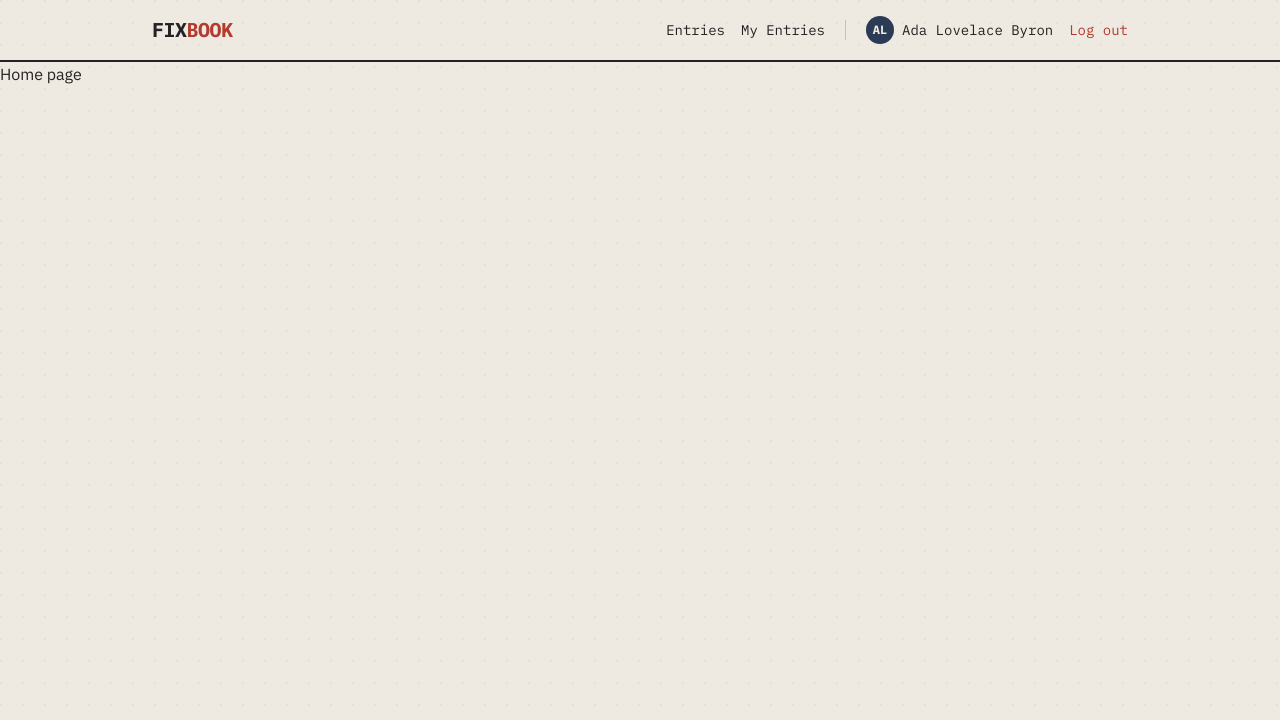
navigation bar › shows initials and logs out only after confirmation
The width and height of the screenshot is (1280, 720).
Expected: the text "AL" is shown, [866,16,894,44]
Click the button "Log out" at point(1099, 30), box [1069,20,1128,40]
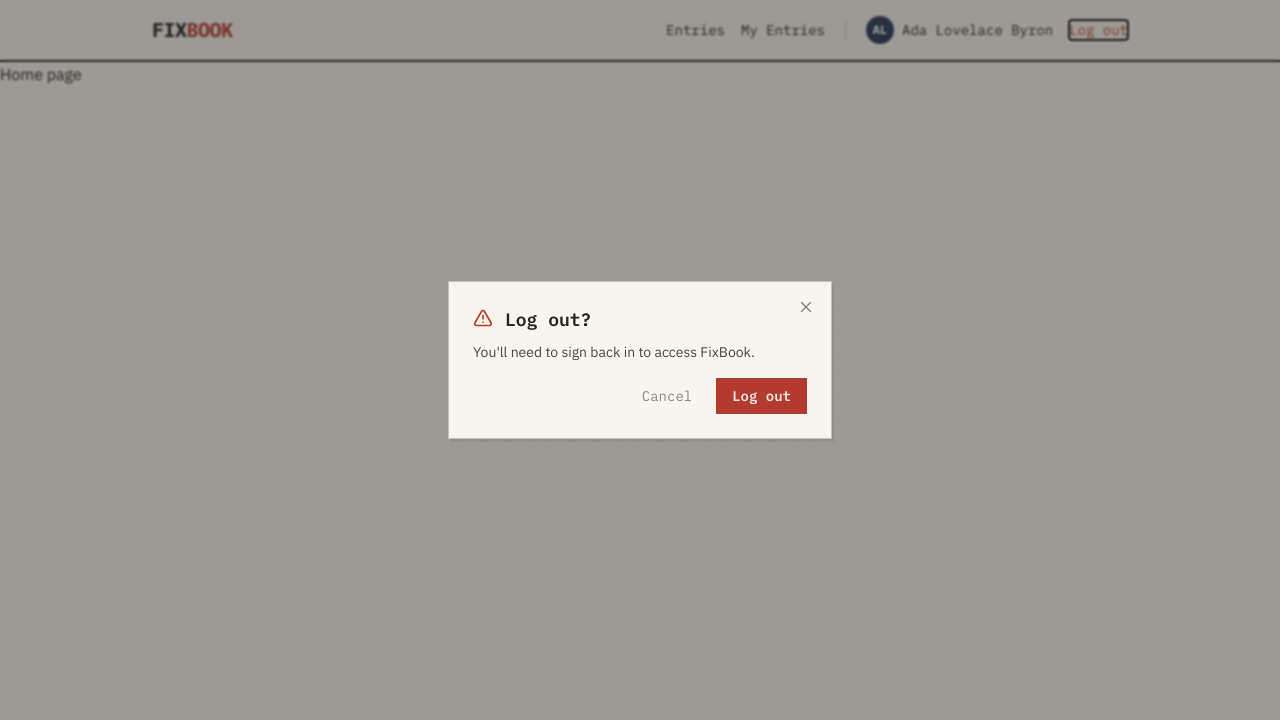
Click the button "Cancel" at point(667, 396), box [630,378,704,414]
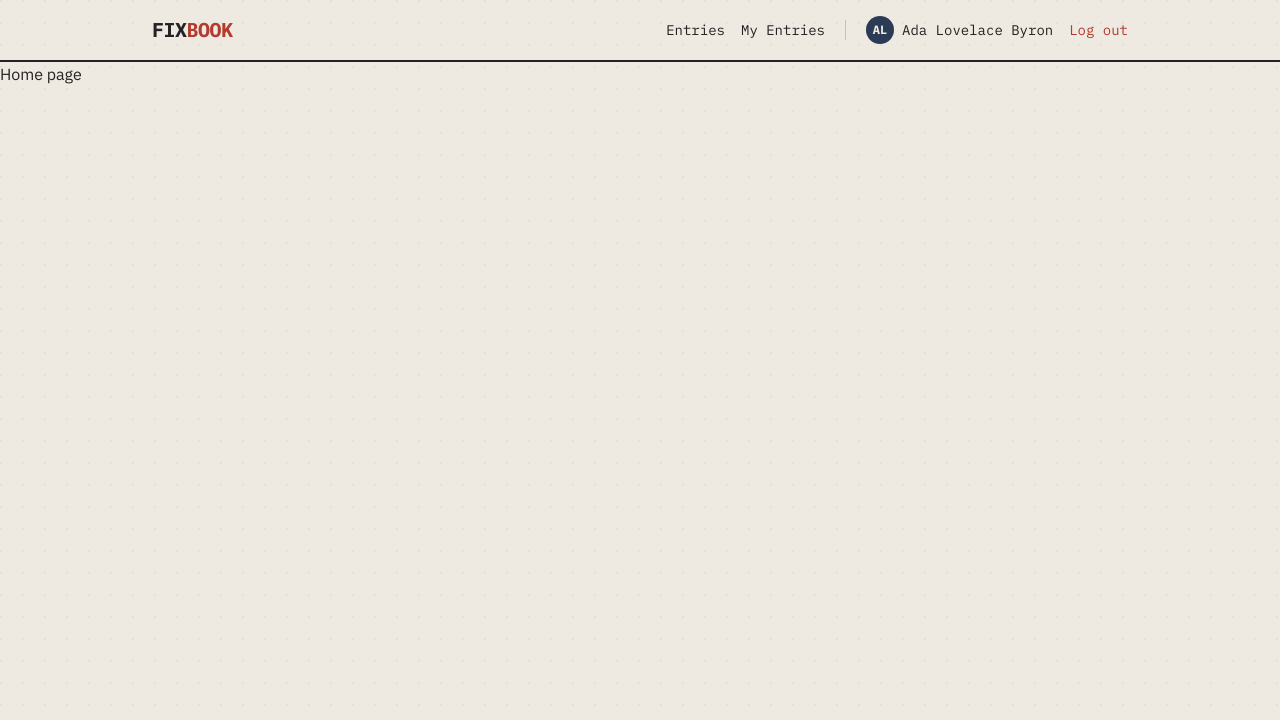
Expected: the heading "Log out?" is not shown
Click the button "Log out" at point(1099, 30), box [1069,20,1128,40]
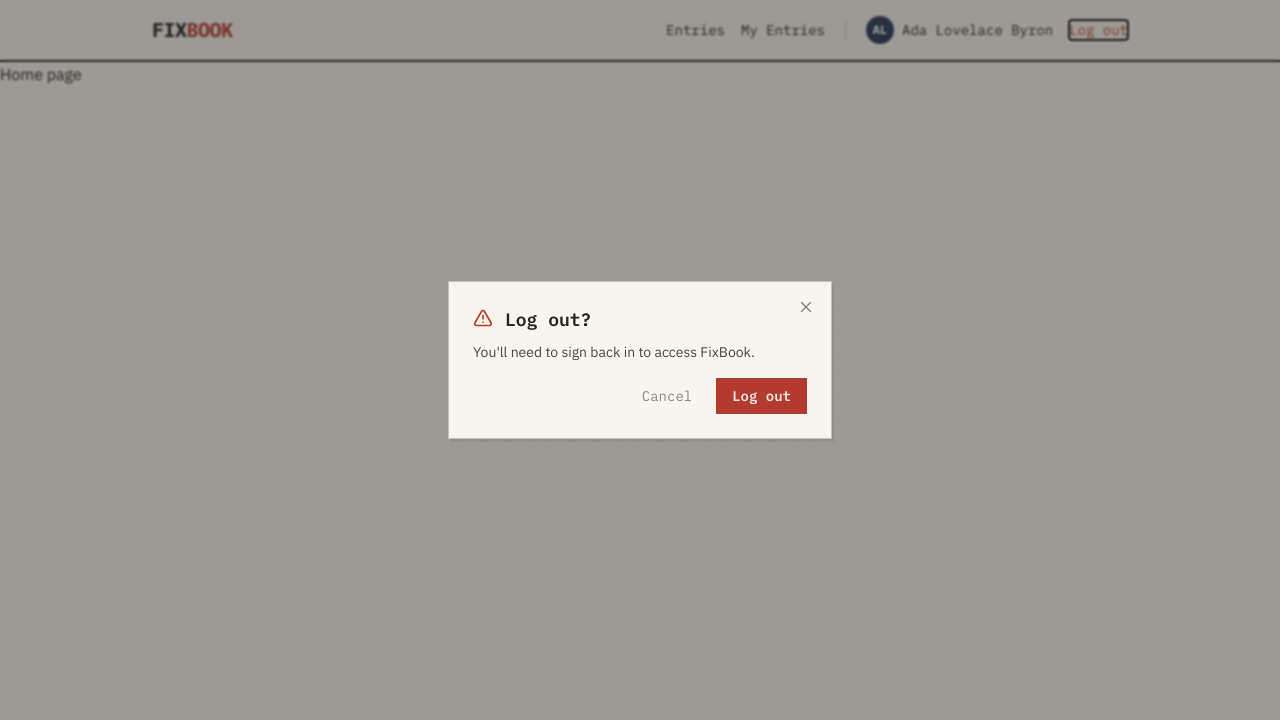
Click the button "Log out" at point(762, 396), box [716,378,807,414]
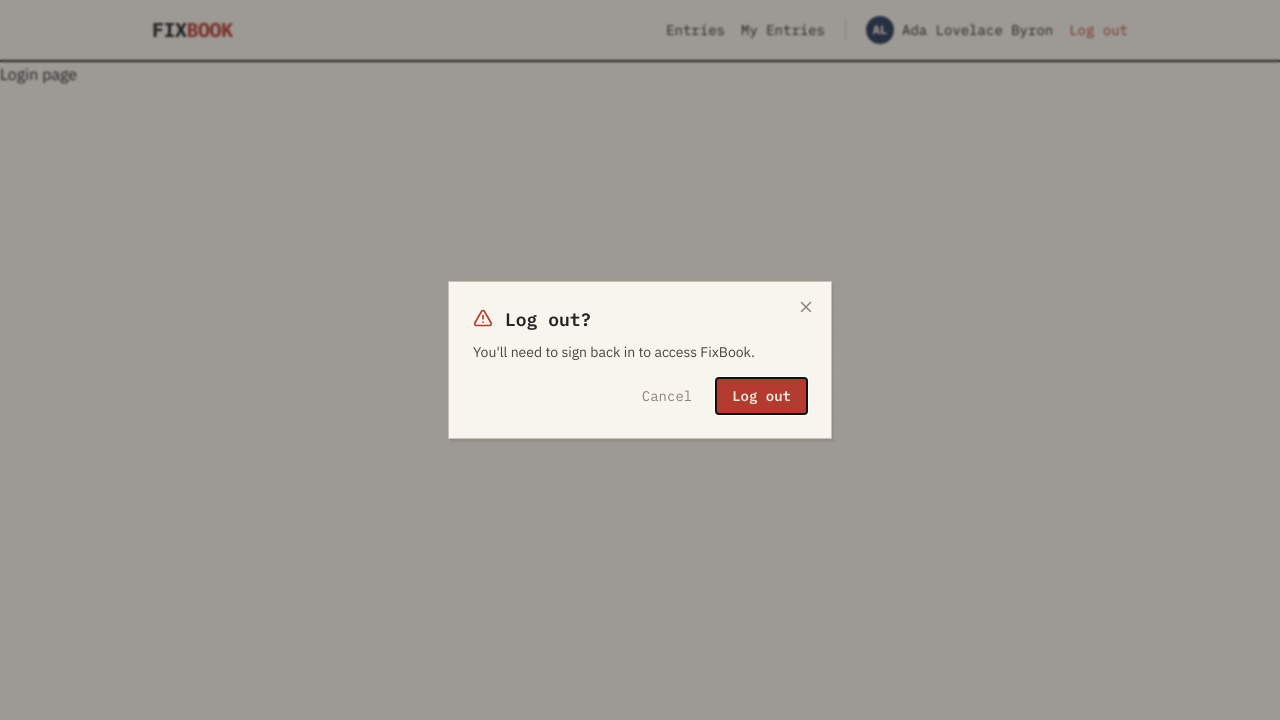
Result: the text "Login page" is shown at [0,64,77,84]
